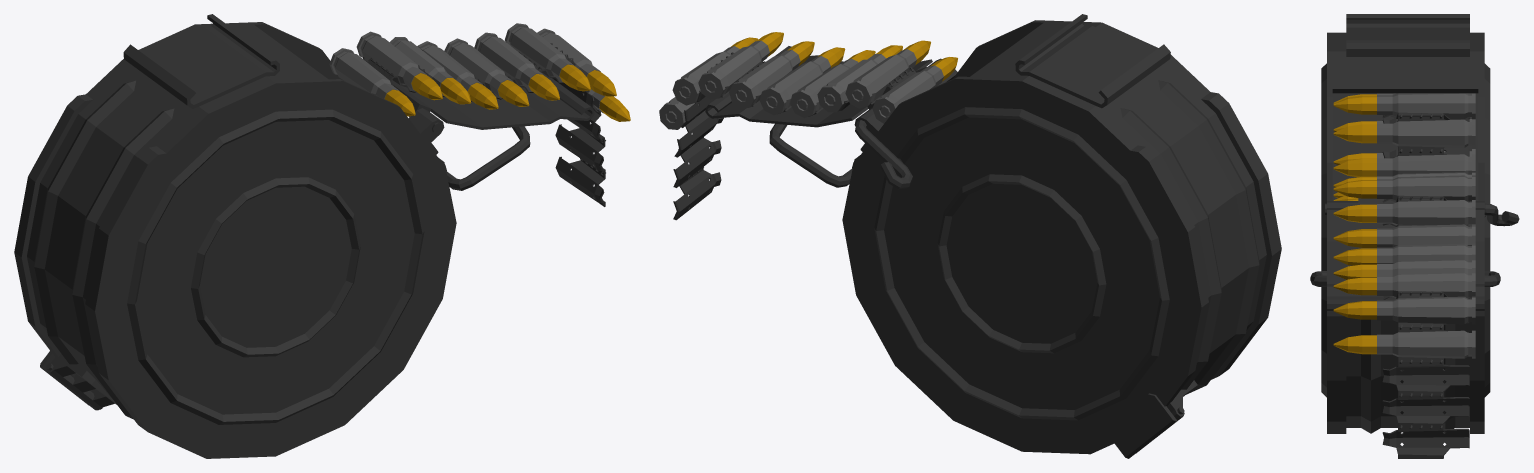
File: rpd-44_magazine.glb
3 views of the same model, side by side, from view 1: azimuth 30°, elevation 25°; view 2: azimuth 150°, elevation 25°; view 3: azimuth 270°, elevation 25° (orthographic). The views are drawn at different scales.
Visible parts, largest first — view 1: 76239 rpd box mag 100rnd_3 (×3); view 2: 76239 rpd box mag 100rnd_3 (×3); view 3: 76239 rpd box mag 100rnd_3 (×3).
Part boxes in pixels (bbox=[...]): 76239 rpd box mag 100rnd_3 (×3): bbox=[14, 14, 630, 458]; 76239 rpd box mag 100rnd_3 (×3): bbox=[659, 14, 1281, 458]; 76239 rpd box mag 100rnd_3 (×3): bbox=[1310, 14, 1519, 458].
Bounding box in the file's own units: 2.45 × 1.64 × 0.8262.
